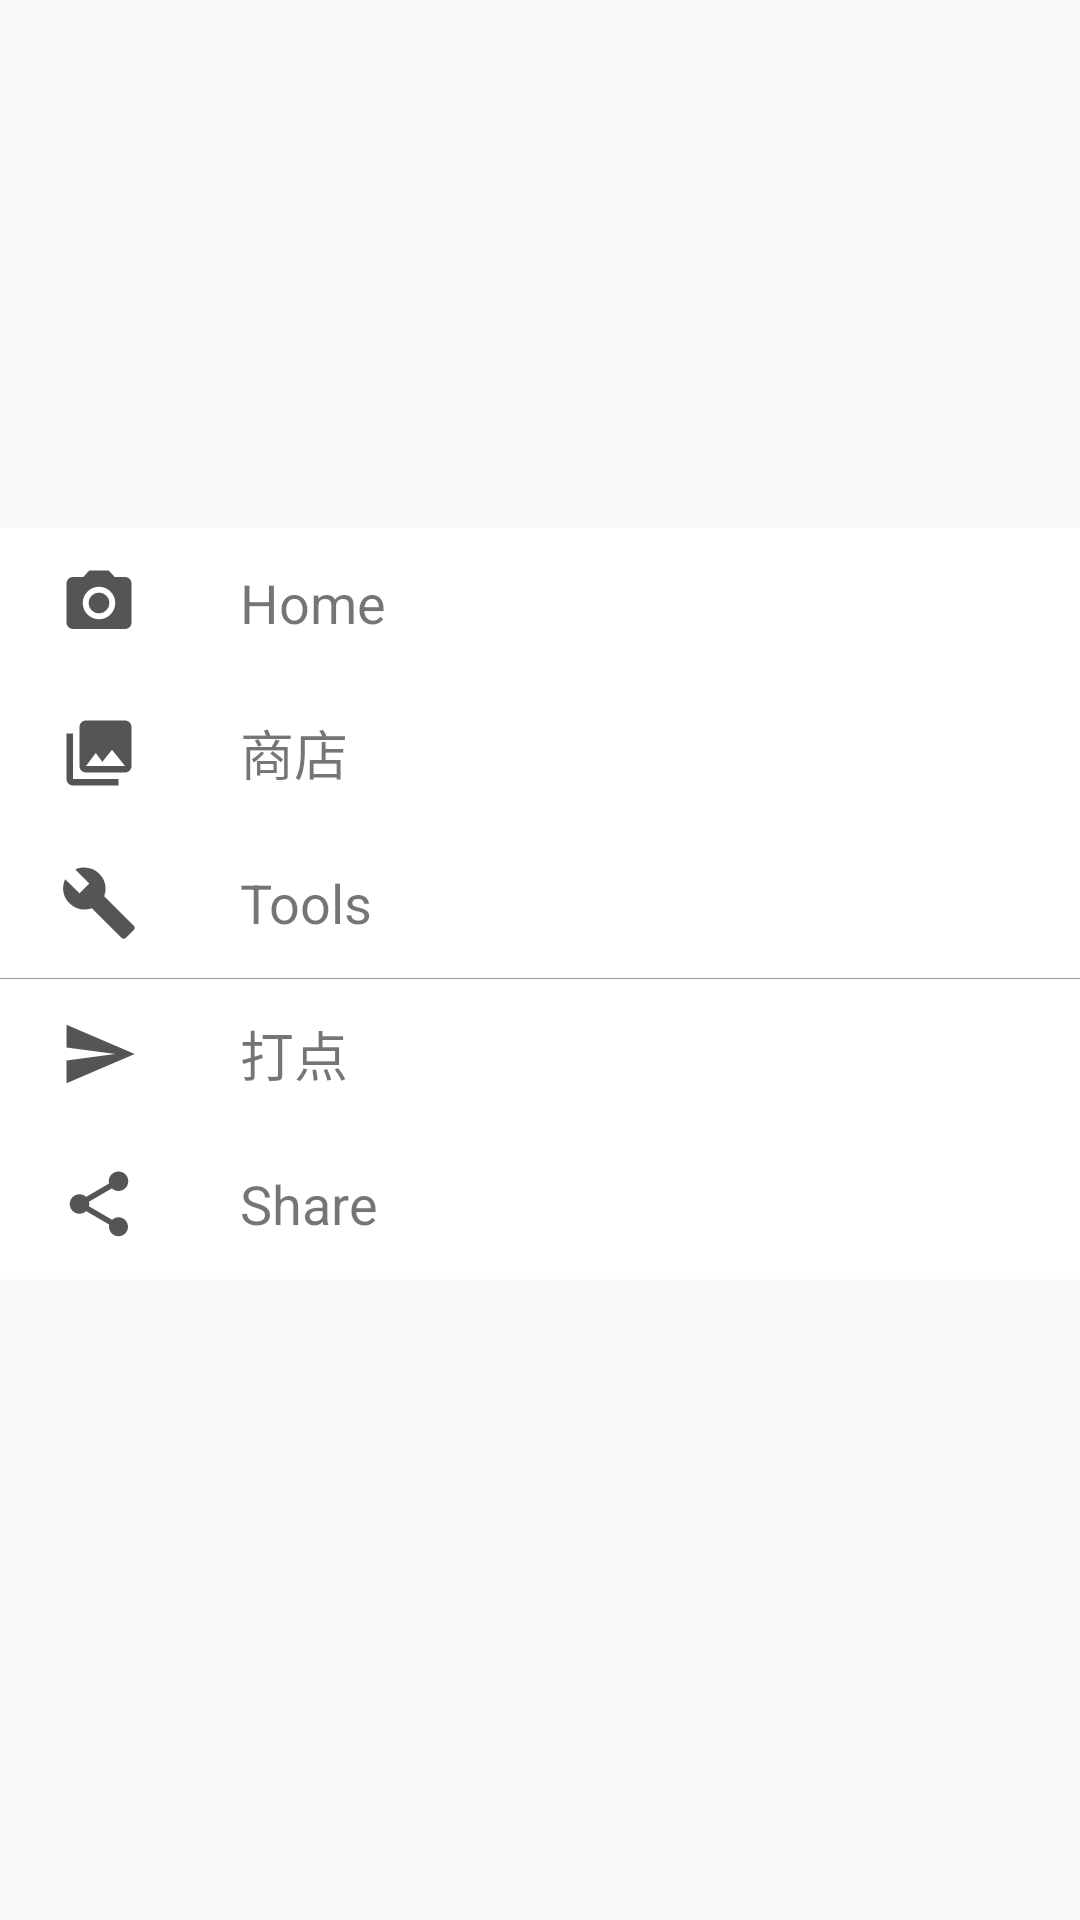

Icons on this 1080 × 1920 Android screen, each with its box as {"left": x1, "top": y1, "right": x2, "bottom": y2}:
camera: {"left": 66, "top": 570, "right": 132, "bottom": 629}
manage: {"left": 63, "top": 867, "right": 135, "bottom": 939}
send: {"left": 66, "top": 1025, "right": 134, "bottom": 1083}
